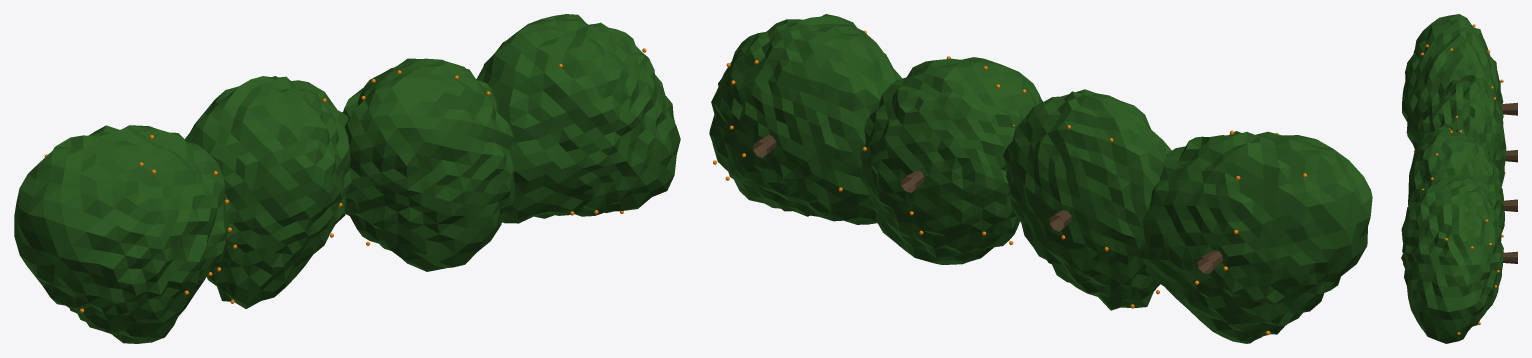
The model's file is citrus_run4_e_fruit.obj.
3 views of the same model, side by side, from view 1: azimuth 30°, elevation 25°; view 2: azimuth 150°, elevation 25°; view 3: azimuth 270°, elevation 25° (orthographic). The views are drawn at different scales.
Parts seen in each view (by area): view 1: canopy; view 2: canopy, trunk, fruit; view 3: canopy, trunk, fruit.
Boxes of the visible parts, <box> form: canopy: <box>14,14,680,343</box>; canopy: <box>709,14,1372,343</box>; trunk: <box>753,135,1223,273</box>; fruit: <box>713,30,1307,335</box>; canopy: <box>1401,14,1506,343</box>; trunk: <box>1501,103,1517,263</box>; fruit: <box>1414,24,1505,334</box>.
Bounding box in the file's own units: 13.22 × 4.27 × 2.89.
